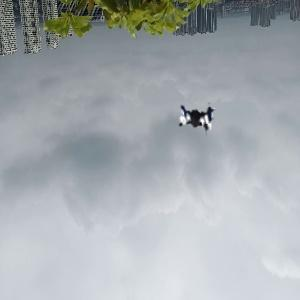drone: (162, 76, 227, 141)
